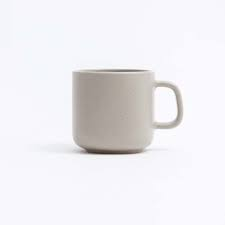mug: (56, 53, 185, 182)
